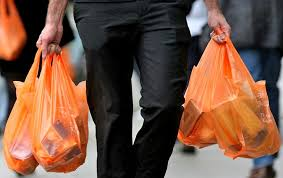plastic bag: (1, 41, 135, 176), (155, 31, 283, 159)
